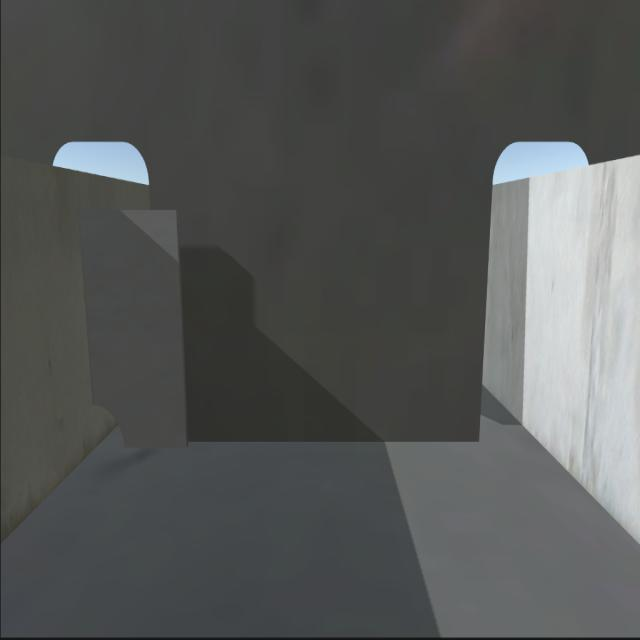fillet_hole: (90, 399, 126, 449)
fillet_yong_jeop_jang: (124, 434, 479, 450)
longi_yong_jeop_jang: (73, 213, 99, 400)
plate_CP01: (82, 216, 190, 443)
